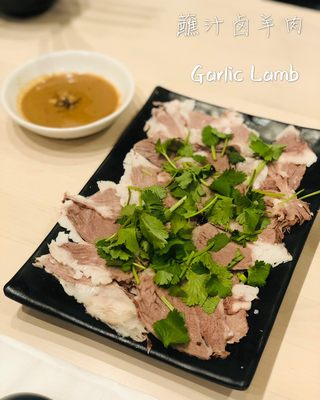sushi: (20, 88, 319, 379), (1, 49, 137, 140)
